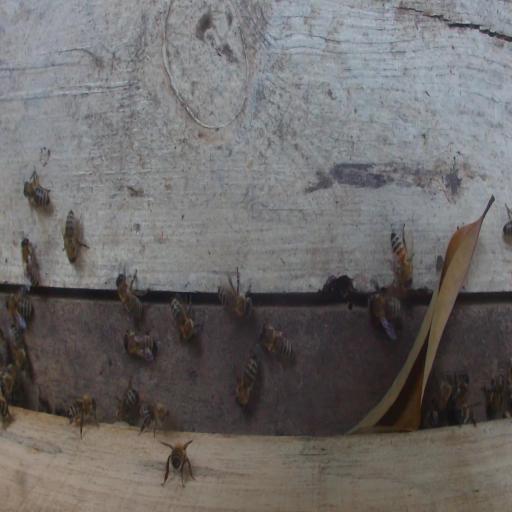nonpollenbee: (217, 271, 254, 320), (368, 289, 402, 341), (161, 438, 195, 488), (259, 317, 295, 363), (61, 208, 90, 265), (390, 221, 414, 287), (234, 349, 260, 409), (66, 393, 99, 439), (170, 295, 201, 343), (23, 165, 51, 215), (115, 272, 143, 320), (138, 402, 170, 438), (123, 329, 156, 362), (483, 370, 506, 414), (5, 293, 33, 329), (21, 236, 40, 288), (116, 380, 139, 422), (10, 325, 28, 372), (452, 402, 477, 427), (438, 372, 453, 412), (452, 372, 469, 406), (1, 363, 16, 399), (503, 202, 512, 240), (422, 408, 439, 427), (0, 396, 11, 423)
